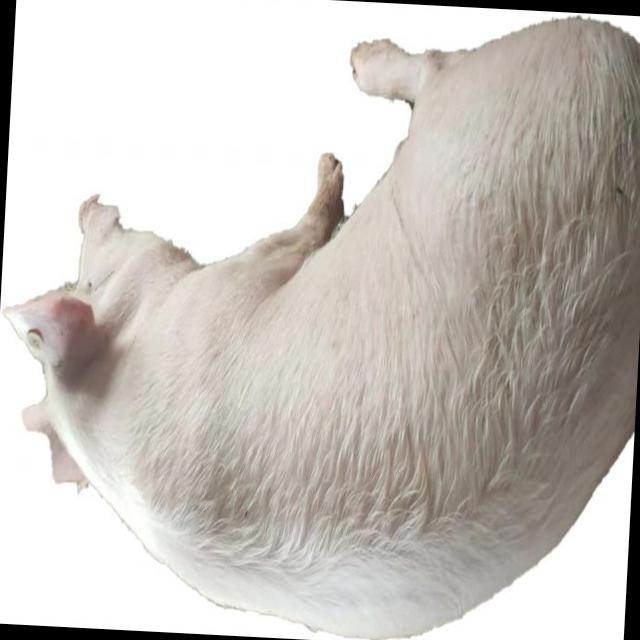pig: (5, 19, 640, 639)
